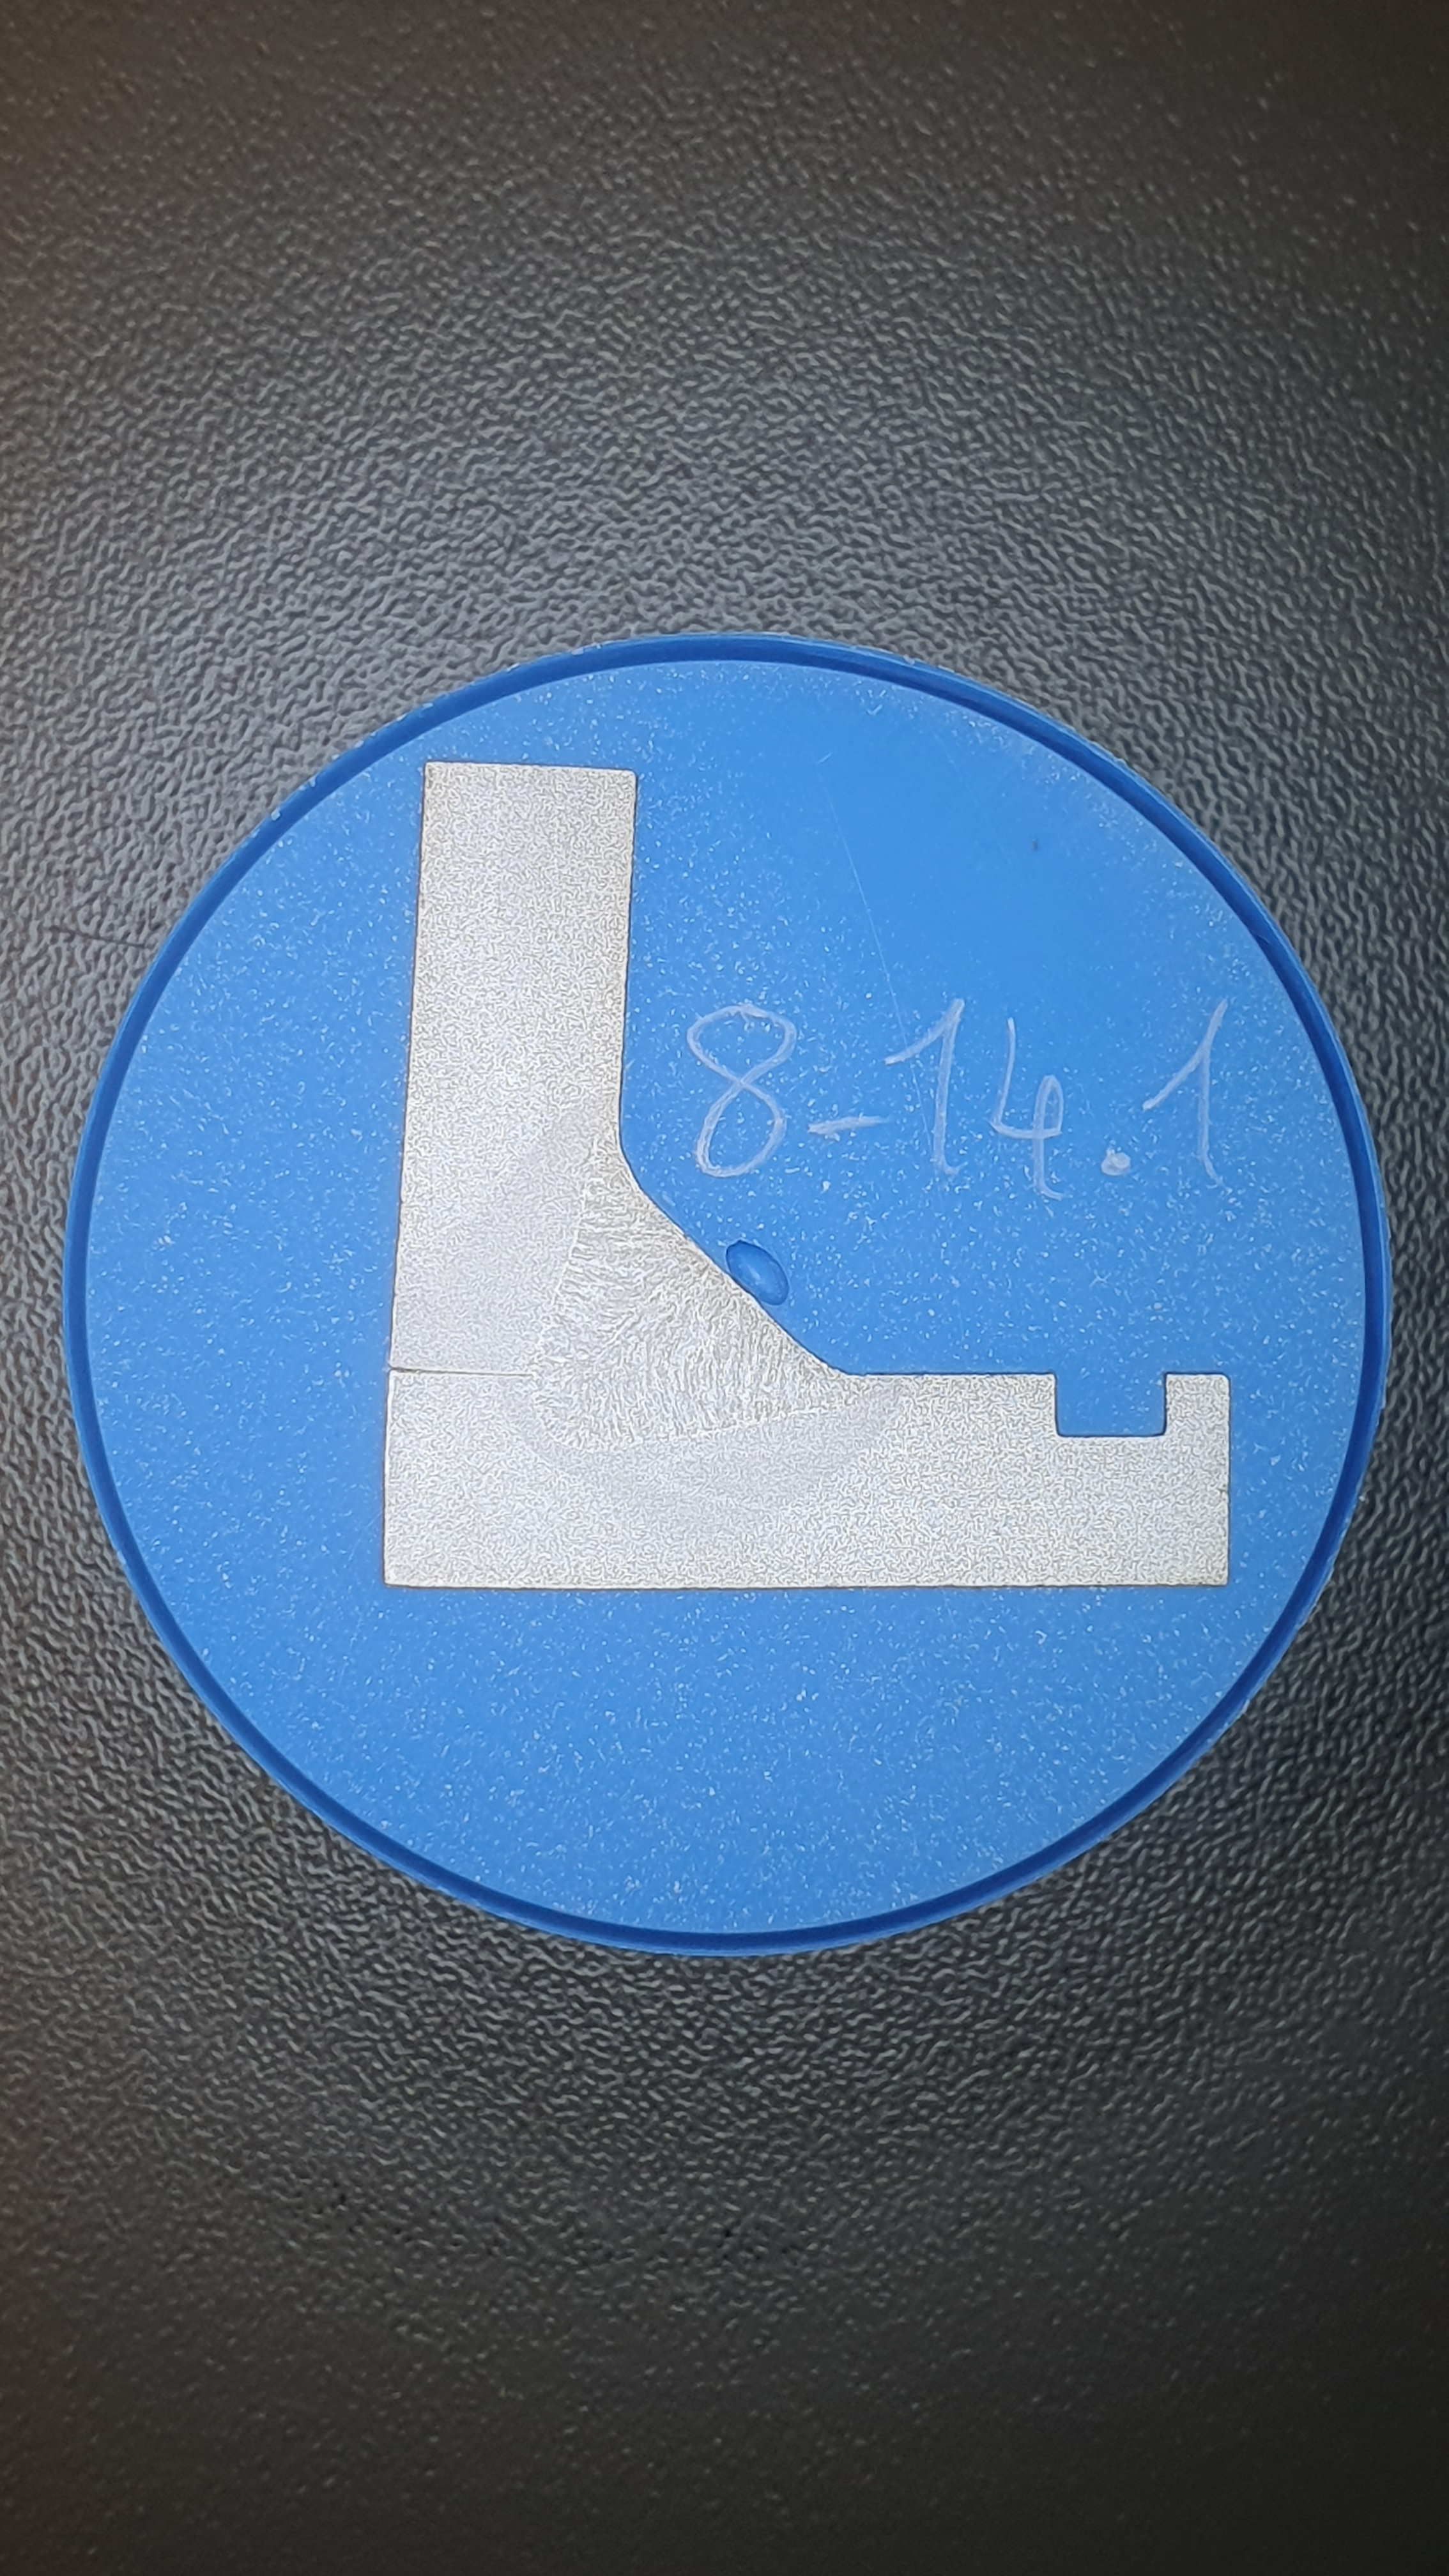Fusion: (526, 1121, 877, 1452)
Hintergrund: (85, 661, 1366, 1933)
Metall: (383, 760, 1231, 1590)
Nebenbereich: (484, 1092, 919, 1512)
